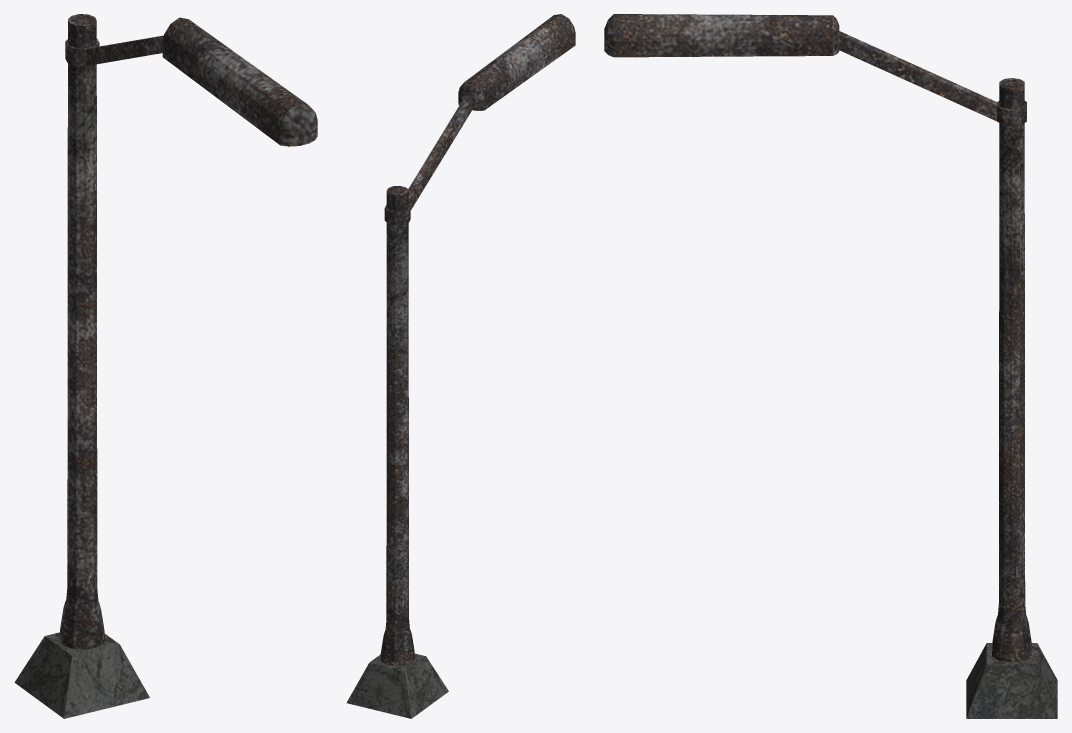
The model's file is MH_env_street_light_00.fbx.
The picture shows the model from 3 angles, left to right: view 1: azimuth 30°, elevation 25°; view 2: azimuth 150°, elevation 25°; view 3: azimuth 270°, elevation 25°; orthographic projection. The views are drawn at different scales.
Parts seen in each view (by area): view 1: polySurface223; view 2: polySurface223; view 3: polySurface223.
Part boxes in pixels (x1,y1,x2,y2): polySurface223: (14, 14, 317, 718); polySurface223: (346, 14, 575, 718); polySurface223: (604, 14, 1057, 718).
Size of the model in its own units: 0.6266 by 5.18 by 3.11.
